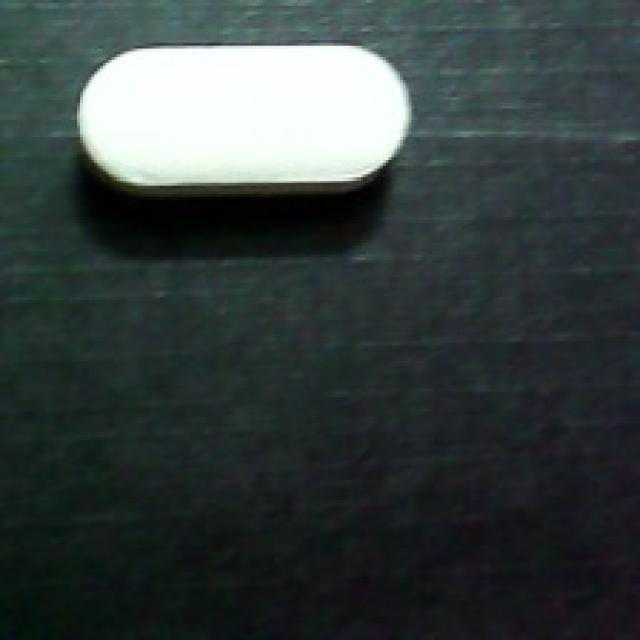no-defect: (74, 40, 411, 209)
